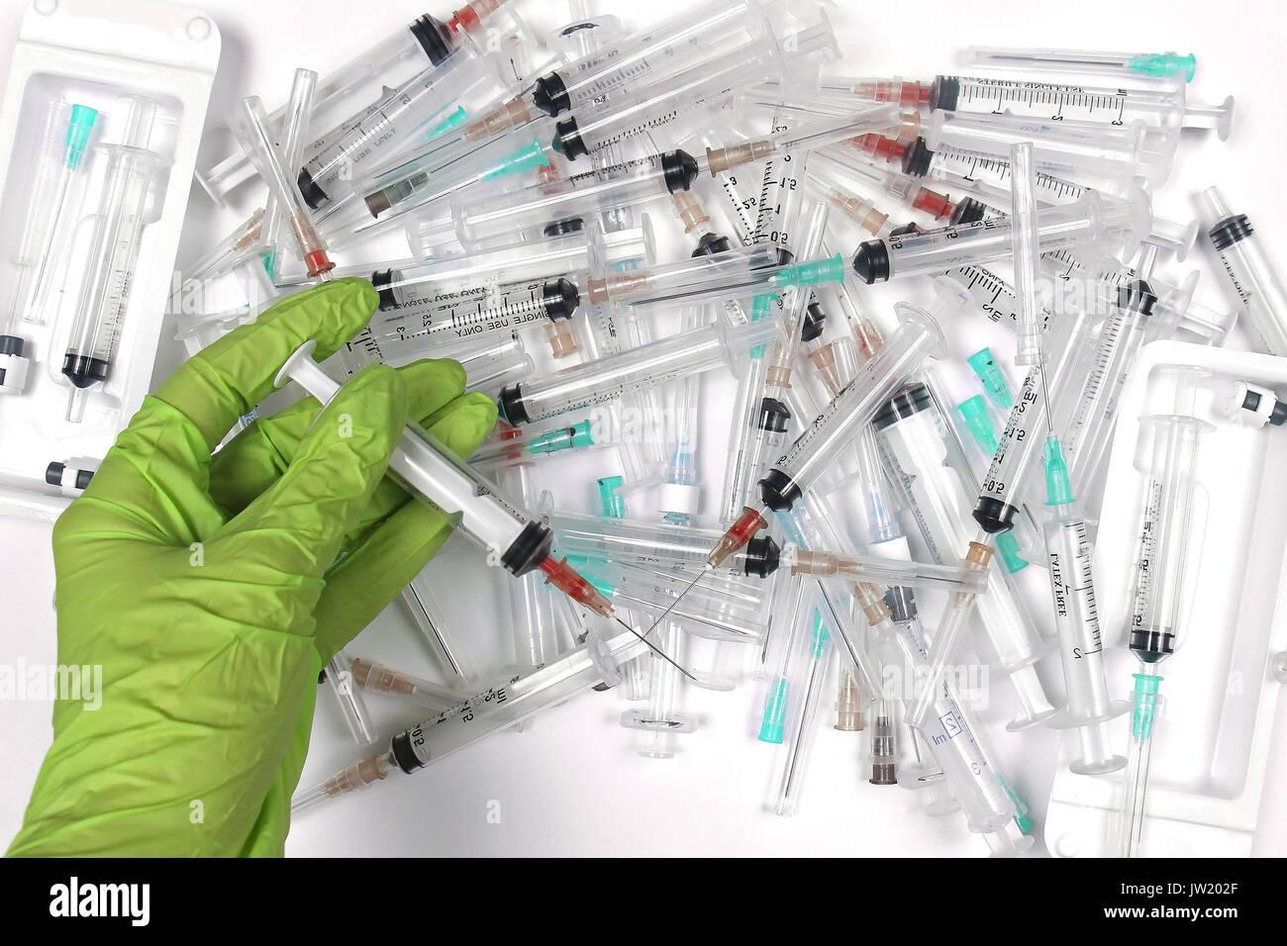Glove: (8, 280, 494, 855)
Syringe: (706, 281, 962, 570), (292, 631, 645, 809), (1119, 368, 1212, 856), (464, 0, 770, 140), (552, 10, 837, 159), (389, 424, 611, 615), (296, 40, 503, 207), (61, 96, 167, 422), (336, 215, 653, 312), (498, 320, 778, 424), (1043, 433, 1128, 774), (0, 98, 97, 393), (973, 308, 1096, 533), (318, 128, 550, 244), (1056, 251, 1166, 488), (449, 149, 700, 248), (873, 382, 985, 563), (926, 75, 1233, 140), (922, 686, 1032, 855), (233, 96, 334, 279), (924, 111, 1175, 181), (587, 244, 844, 309), (370, 278, 579, 356), (310, 15, 457, 124), (807, 148, 970, 236), (1202, 187, 1286, 355), (706, 105, 899, 175), (852, 218, 1011, 284), (549, 512, 719, 573), (781, 545, 987, 594), (906, 588, 976, 728), (962, 46, 1195, 81), (1009, 142, 1044, 365), (470, 421, 608, 469), (348, 657, 461, 709), (279, 68, 317, 168), (1212, 380, 1286, 426), (966, 346, 1014, 411)
